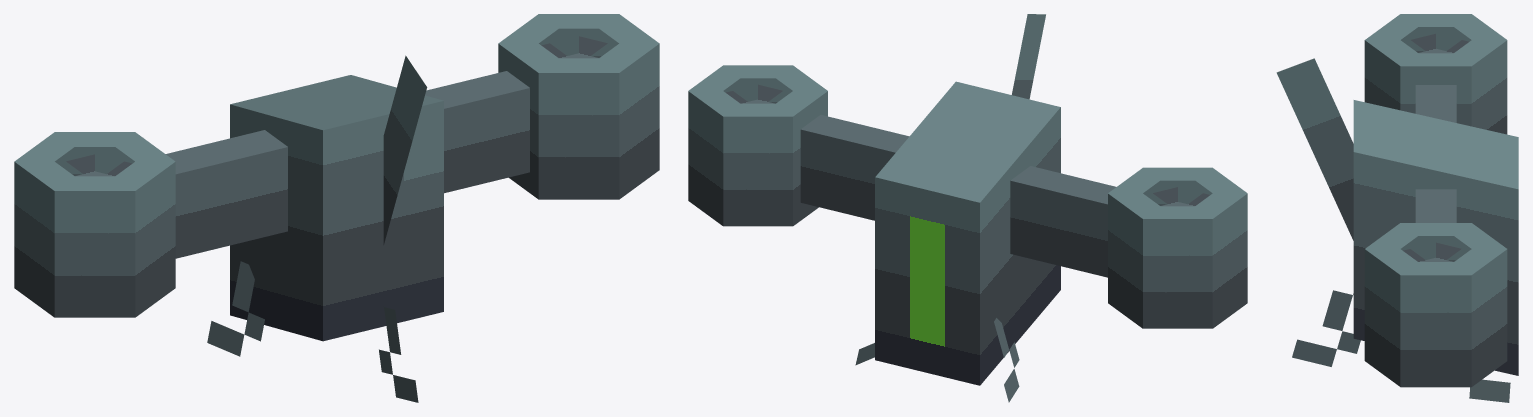
Rendered from Transport_Drone.gltf.
The picture shows the model from 3 angles, left to right: view 1: azimuth 30°, elevation 25°; view 2: azimuth 150°, elevation 25°; view 3: azimuth 270°, elevation 25°; orthographic projection. The views are drawn at different scales.
Visible parts, largest first — view 1: Head, Left Fan Cover, Right Fan Cover, Wing, Anntene, Left Foot, Fan (×2), Back Foot; view 2: Head, Left Fan Cover, Right Fan Cover, Wing, Anntene, Left Foot, Fan; view 3: Right Fan Cover, Head, Left Fan Cover, Anntene, Wing, Back Foot, Fan (×2), Right Foot.
Part boxes in pixels (box(x1,y1,x2,y2)): Head: box(230, 75, 443, 341); Left Fan Cover: box(14, 132, 175, 317); Right Fan Cover: box(498, 14, 659, 199); Wing: box(165, 71, 529, 258); Anntene: box(383, 55, 427, 244); Left Foot: box(207, 261, 264, 356); Fan (×2): box(66, 36, 607, 176); Back Foot: box(379, 306, 418, 402); Head: box(875, 81, 1060, 385); Left Fan Cover: box(1108, 167, 1247, 328); Right Fan Cover: box(688, 65, 827, 226); Wing: box(800, 115, 1115, 277); Anntene: box(1012, 14, 1045, 99); Left Foot: box(994, 318, 1019, 402); Fan: box(1153, 187, 1209, 206); Right Fan Cover: box(1364, 223, 1507, 387); Head: box(1353, 100, 1518, 375); Left Fan Cover: box(1364, 14, 1507, 134); Anntene: box(1276, 58, 1353, 240); Wing: box(1415, 85, 1456, 222); Back Foot: box(1292, 290, 1360, 366); Fan (×2): box(1403, 33, 1468, 261); Right Foot: box(1469, 379, 1510, 402).
Size of the model in its own units: 0.9665 by 0.5252 by 0.3672.
Materials: 1 (1 with a texture image).
